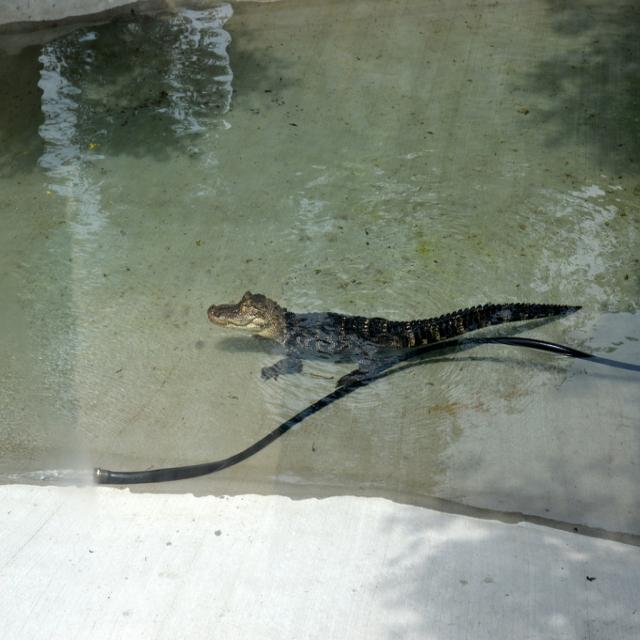crocodile: (190, 282, 605, 404)
